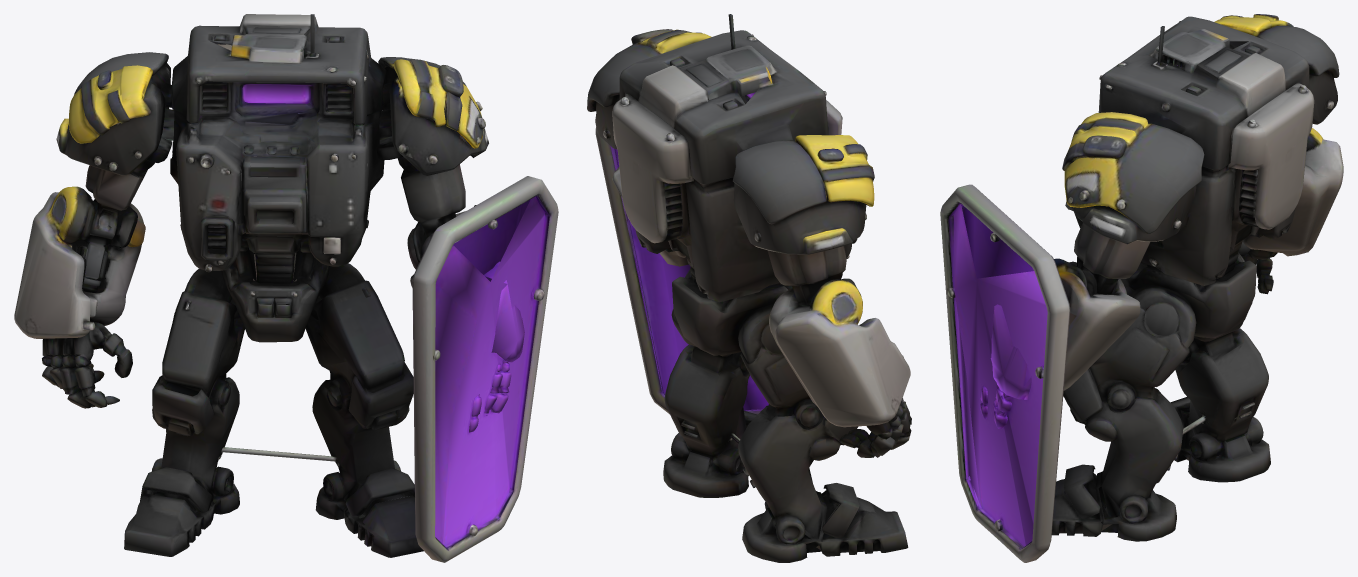
Rendered from guard.glb.
The picture shows the model from 3 angles, left to right: view 1: azimuth 30°, elevation 25°; view 2: azimuth 150°, elevation 25°; view 3: azimuth 270°, elevation 25°; orthographic projection. The views are drawn at different scales.
Visible parts, largest first — view 1: tripo_node_d2414816-3334-4339-bbb7-de229864a433; view 2: tripo_node_d2414816-3334-4339-bbb7-de229864a433; view 3: tripo_node_d2414816-3334-4339-bbb7-de229864a433.
Boxes of the visible parts, x1=… form: tripo_node_d2414816-3334-4339-bbb7-de229864a433: x1=14, y1=14, x2=558, y2=562; tripo_node_d2414816-3334-4339-bbb7-de229864a433: x1=587, y1=14, x2=911, y2=562; tripo_node_d2414816-3334-4339-bbb7-de229864a433: x1=940, y1=14, x2=1343, y2=562.
Bounding box in the file's own units: 0.8892 × 0.9995 × 0.7593.
Materials: 1 (1 with a texture image).
